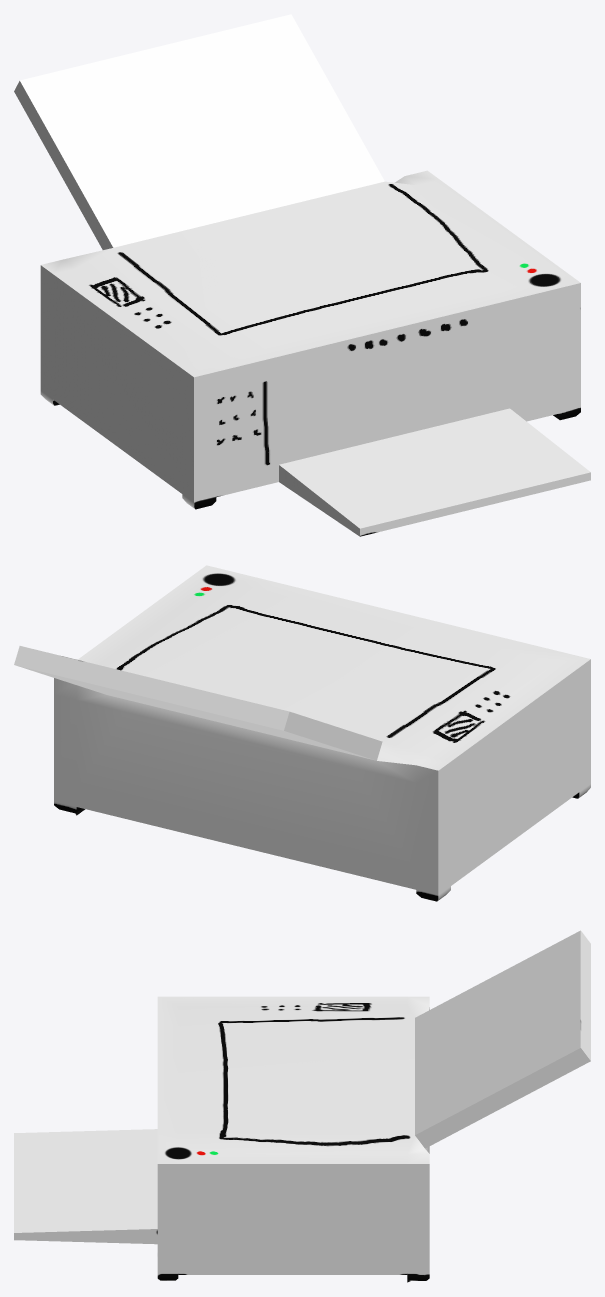
File: pRINTER1.fbx
The picture shows the model from 3 angles, top to bottom: view 1: azimuth 30°, elevation 25°; view 2: azimuth 150°, elevation 25°; view 3: azimuth 270°, elevation 25°; orthographic projection. The views are drawn at different scales.
Parts seen in each view (by area): view 1: pCube1; view 2: pCube1; view 3: pCube1.
Boxes of the visible parts, box(x1,y1,x2,y2) form: pCube1: box(14, 14, 590, 536); pCube1: box(14, 565, 590, 901); pCube1: box(14, 930, 590, 1282).
Size of the model in its own units: 1074 by 637 by 1565.
Materials: 1 (1 with a texture image).
